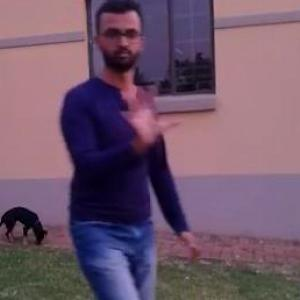follow_hand: (115, 80, 180, 149)
